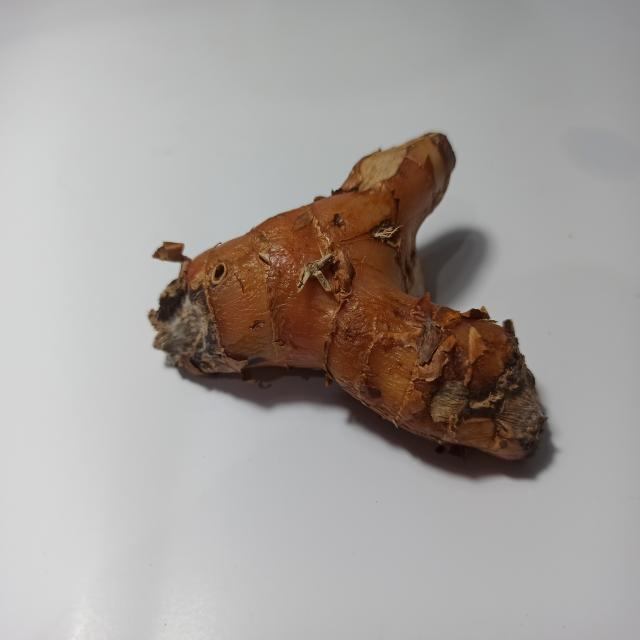ginger: (147, 109, 543, 443)
